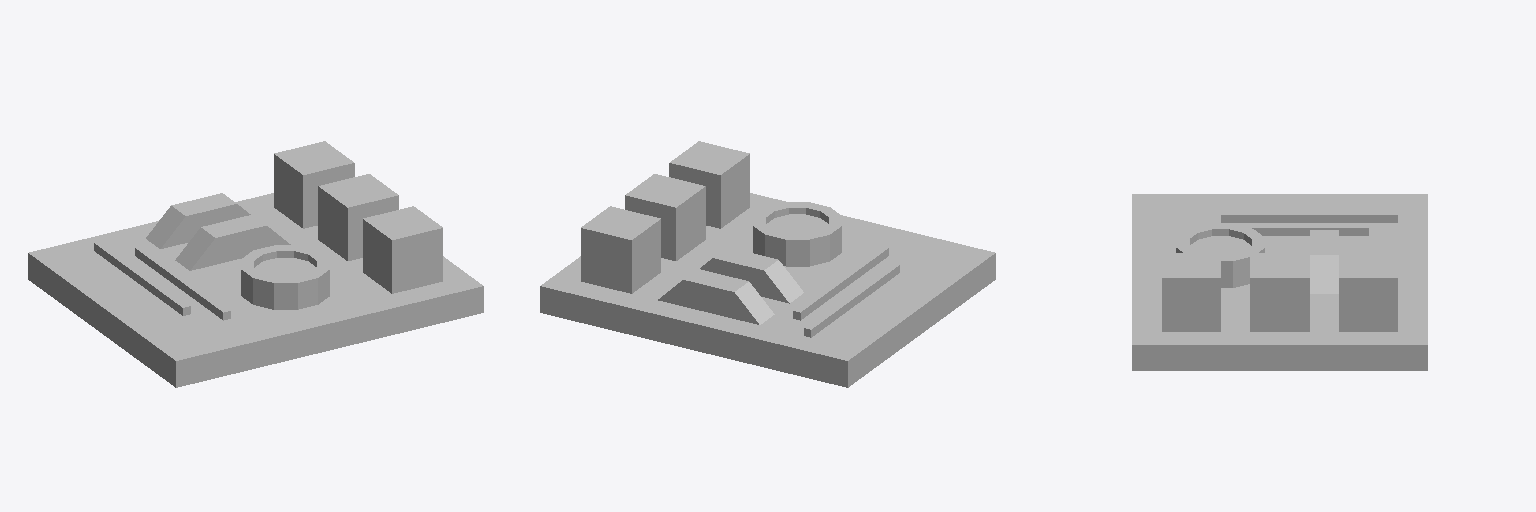
File: sushi.obj
3 views of the same model, side by side, from view 1: azimuth 30°, elevation 25°; view 2: azimuth 150°, elevation 25°; view 3: azimuth 270°, elevation 25° (orthographic).
Visible parts, largest first — view 1: cube, cube.003, cube.001, cylinder, cube.002; view 2: cube, cube.003, cube.001, cylinder, cube.002; view 3: cube, cube.003, cube.002, cylinder, cube.001.
Boxes of the visible parts, x1=… form: cube: x1=28, y1=193, x2=483, y2=387; cube.003: x1=274, y1=141, x2=442, y2=293; cube.001: x1=146, y1=193, x2=290, y2=270; cylinder: x1=241, y1=245, x2=329, y2=309; cube.002: x1=94, y1=241, x2=230, y2=320; cube: x1=540, y1=193, x2=995, y2=387; cube.003: x1=581, y1=141, x2=749, y2=293; cube.001: x1=658, y1=247, x2=803, y2=324; cylinder: x1=753, y1=202, x2=841, y2=266; cube.002: x1=793, y1=246, x2=899, y2=337; cube: x1=1132, y1=194, x2=1427, y2=370; cube.003: x1=1162, y1=253, x2=1397, y2=331; cube.002: x1=1191, y1=211, x2=1397, y2=235; cylinder: x1=1176, y1=224, x2=1264, y2=287; cube.001: x1=1310, y1=230, x2=1397, y2=293.
Size of the model in its own units: 0.75 by 0.1875 by 0.625.